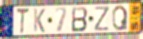7: (55, 6, 68, 34)
B: (71, 6, 89, 33)
K: (33, 8, 46, 34)
Q: (112, 4, 128, 32)
T: (15, 8, 30, 36)
Z: (93, 6, 111, 32)
